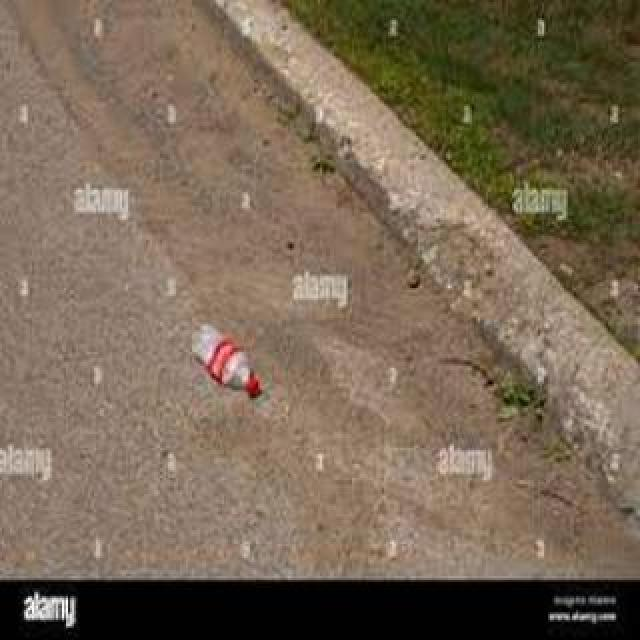Pet_Bottle: (190, 318, 270, 402)
